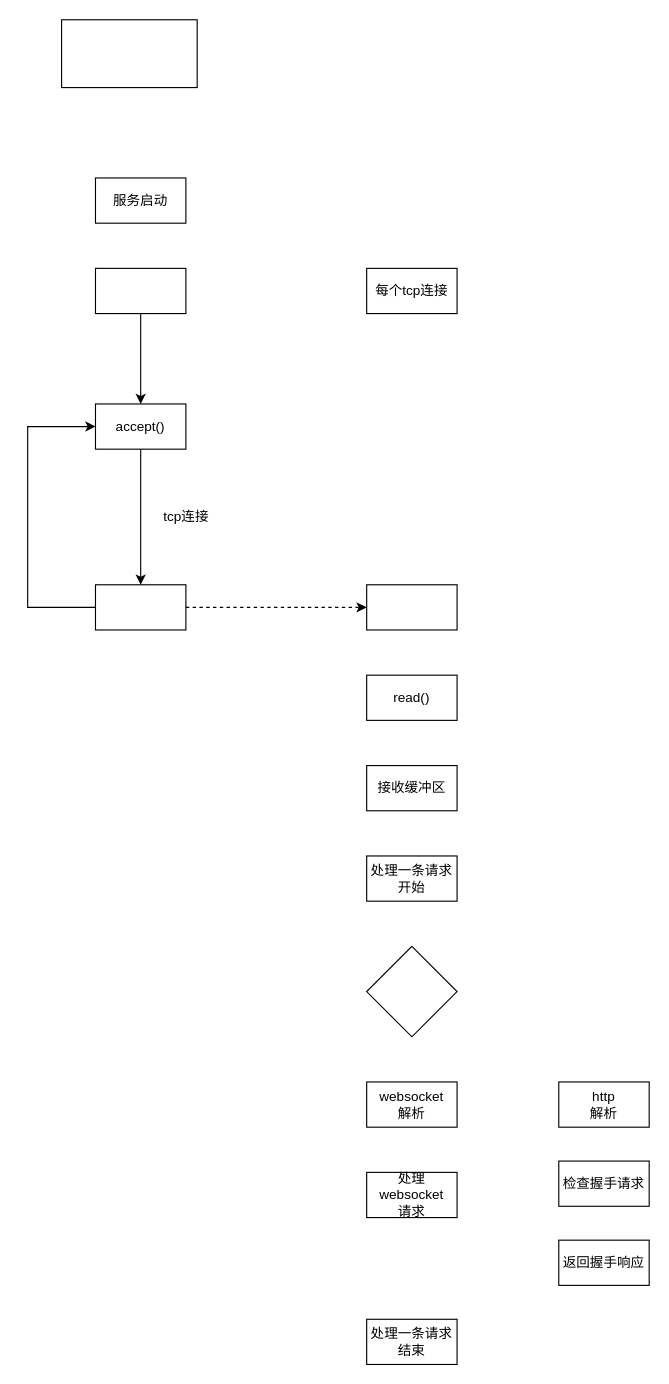
Some shapes in this 669 by 1384 pixel diagram are drawn without their labels. The centre of each missing label's shape, as x and y in pixels:
"listen()" goes at [140,290].
"主服务" goes at [128,53].
"开启并发" goes at [140,607].
"握手没有" goes at [411,991].
